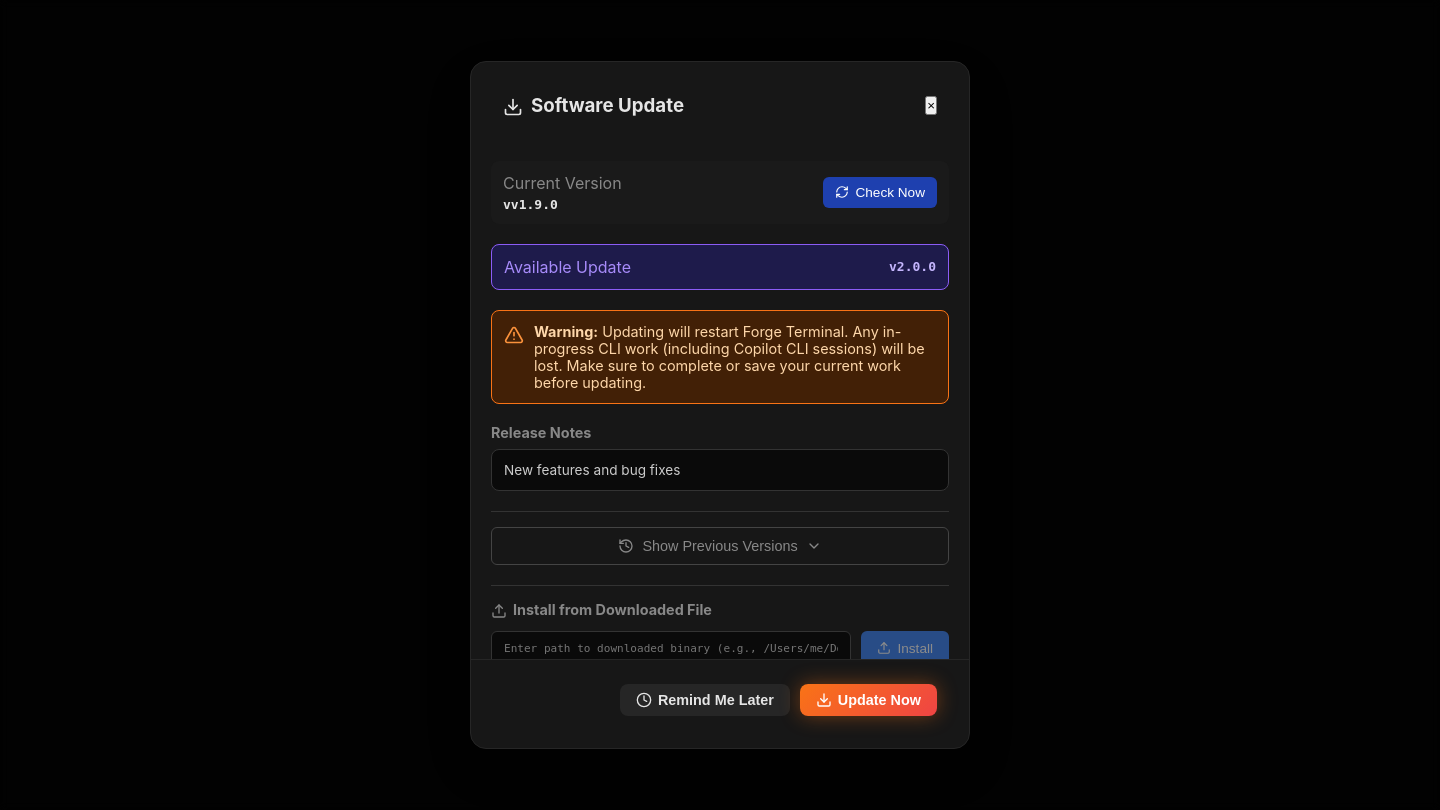
Test: UpdateModal - Server Death Detection & Auto-Refresh › Manual Install with Server Death Detection › should NOT start server death detection if manual install fails
Replace the text in the field with placeholder "Enter path to downloaded binary" with "/bad/path" at (671, 648), box 491,631 -> 852,666
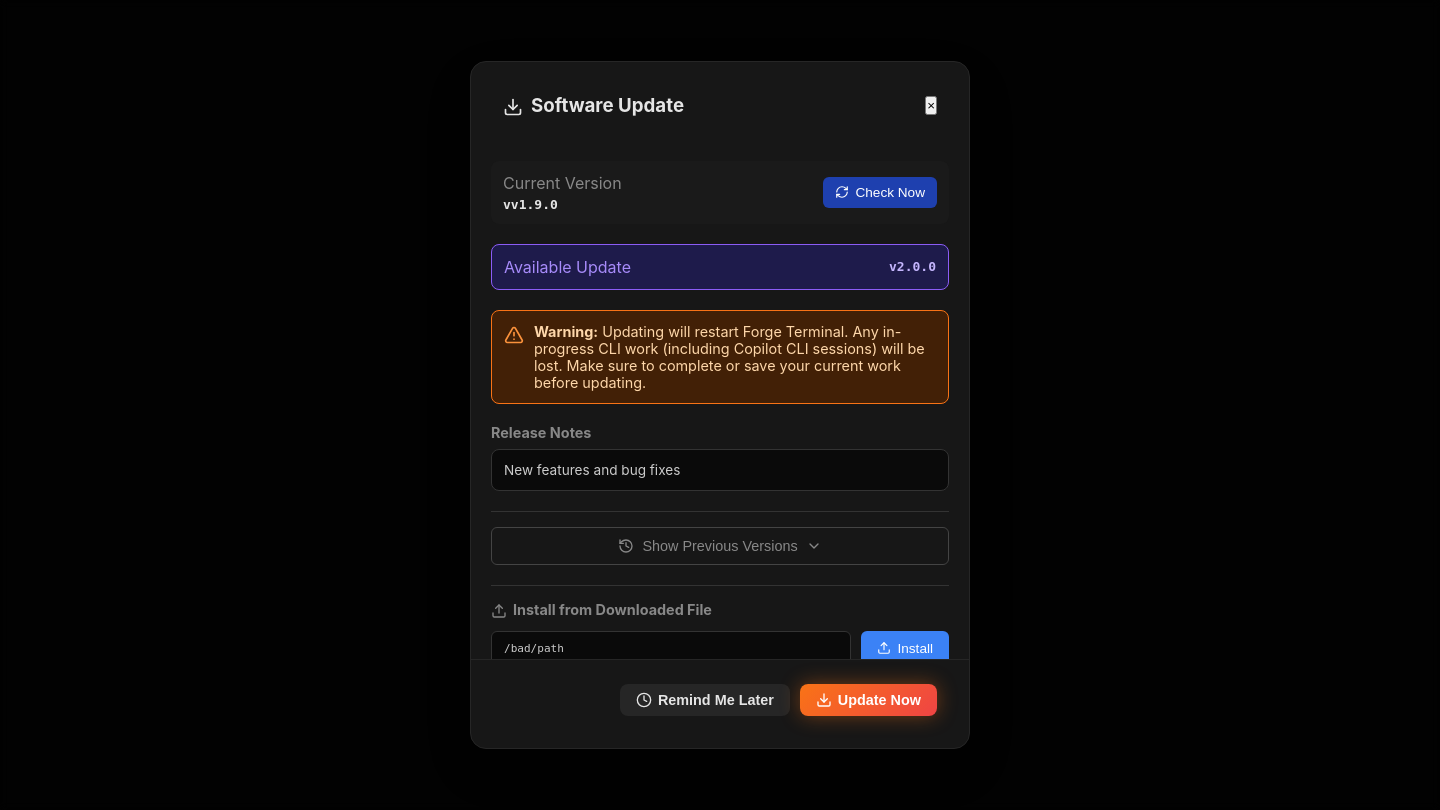
Click the button "Install".
click(905, 648)  # box 862,631 -> 949,666
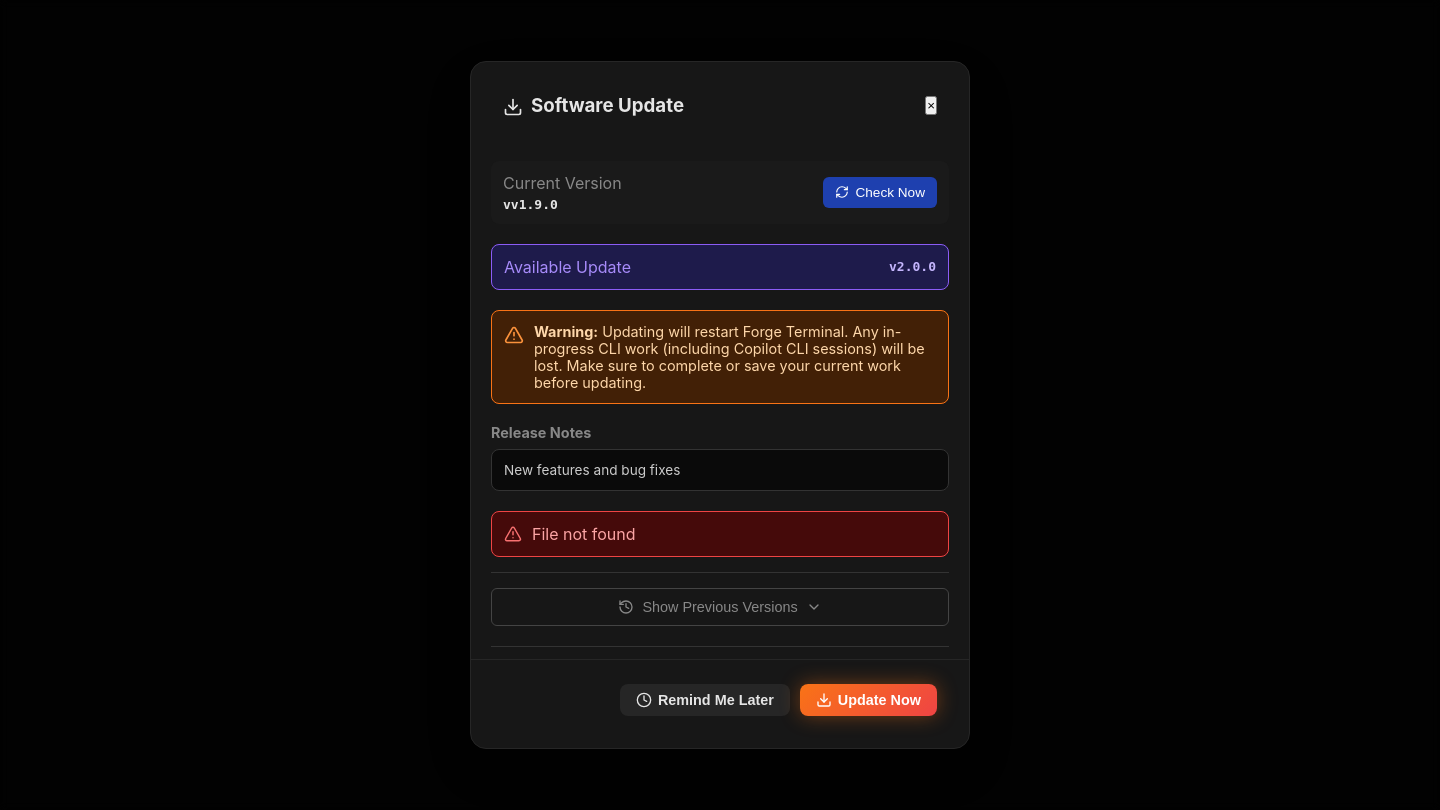
Result: the text "File not found" is shown at 532,524 -> 636,544
